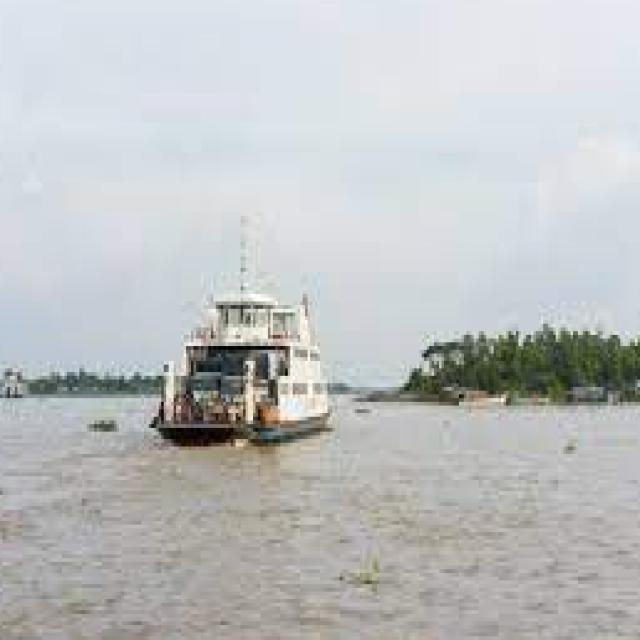houseboat: (157, 268, 360, 442)
